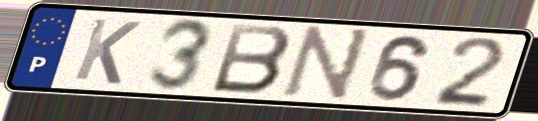2: (432, 35, 510, 110)
3: (144, 15, 217, 97)
6: (365, 33, 434, 103)
B: (207, 21, 295, 97)
K: (69, 16, 144, 87)
N: (277, 24, 376, 105)
